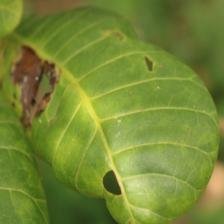leaf miner: (0, 1, 220, 224)
